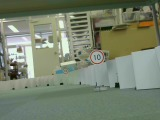speed_10: (88, 48, 105, 65)
